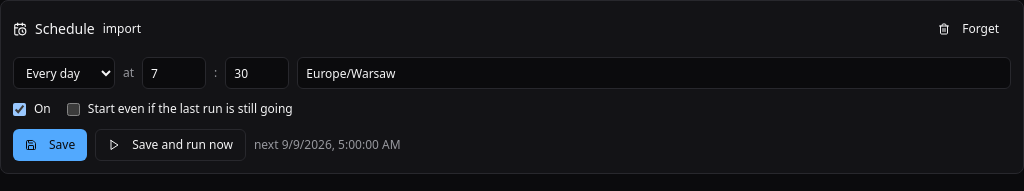
Test: forgetting a schedule › clears the form when the server actually deleted it
Expected: the number field named "Schedule hour" holds "7", [142, 57, 206, 89]
Step 1. Click the button "Forget" → (969, 29), box [926, 13, 1011, 45]
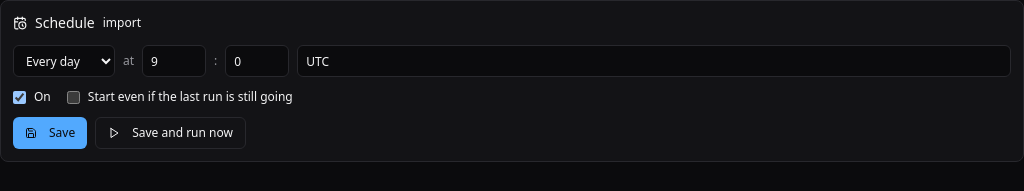
Expected: the number field named "Schedule hour" holds "9", [142, 45, 206, 77]
